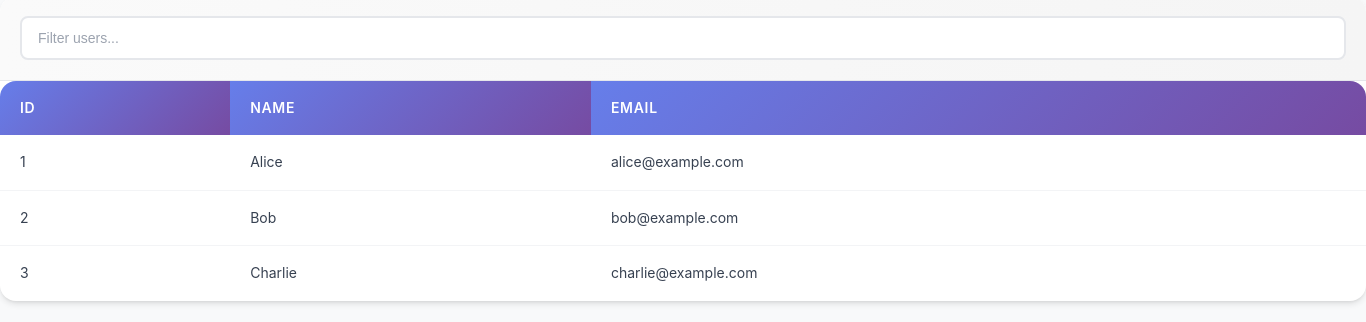
Scenario: DataTable › should sort data when clicking column header
Click the button "Name": (273, 108) [230, 81, 591, 135]
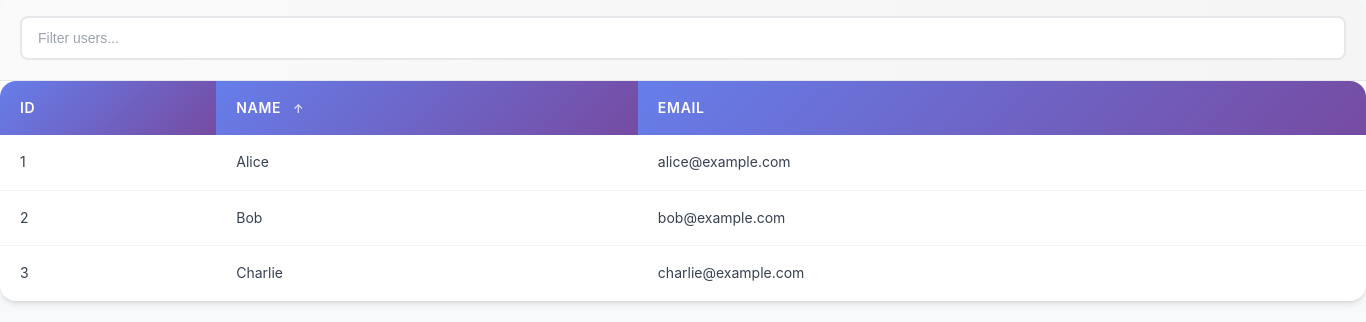
expect the text "↑" is shown: met, box [289, 101, 304, 116]
